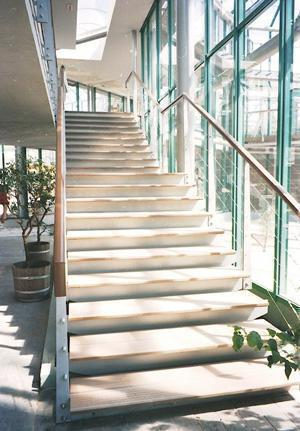Escaleras: (53, 63, 297, 399)
Matera: (5, 163, 54, 300)
